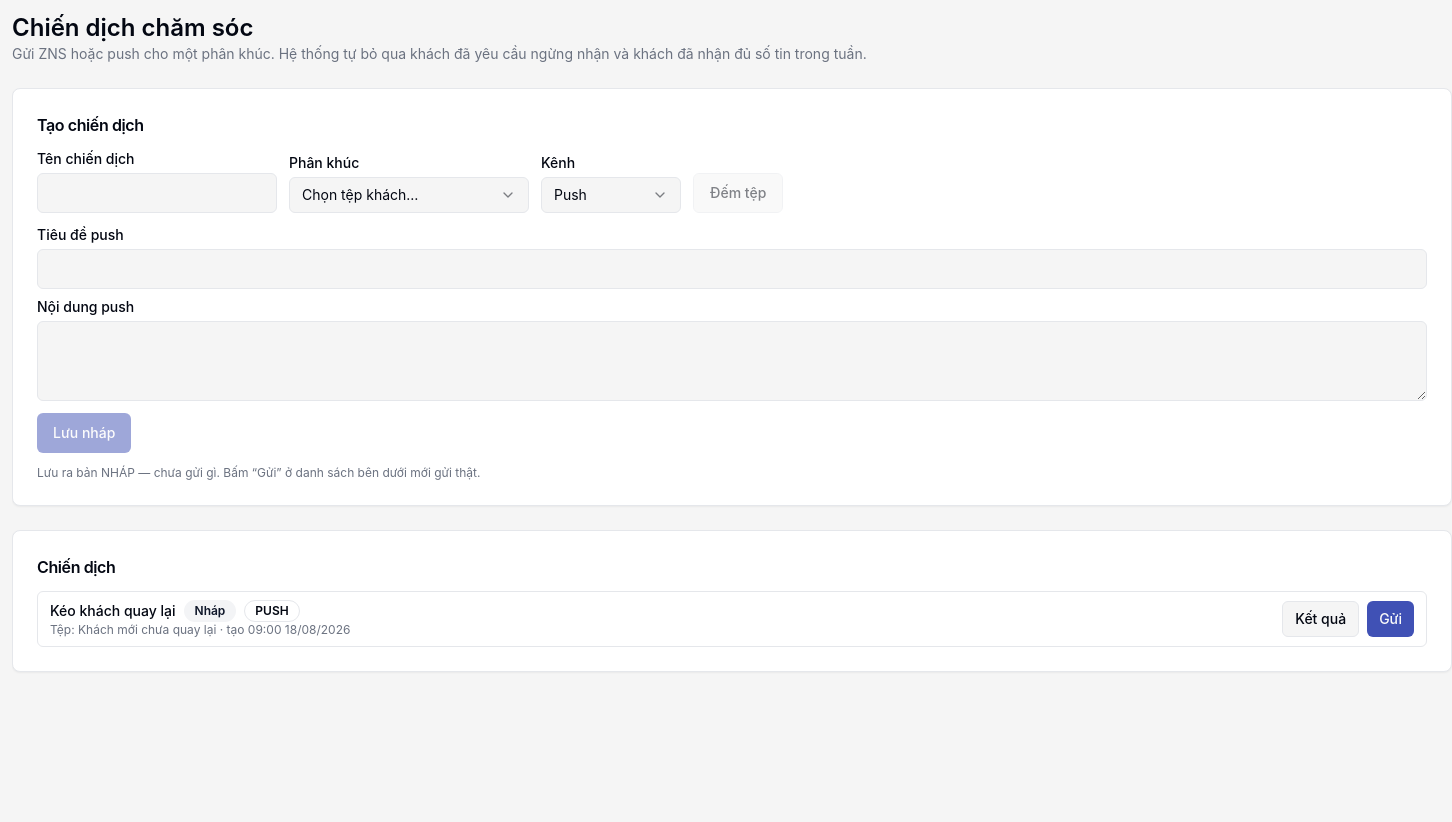
Test case: /crm-campaigns — tạo chiến dịch › đếm tệp hiện số khách và cảnh báo số thực nhận nhỏ hơn
Click the dropdown named "Chọn phân khúc" at [409, 195], box [289,177,529,213]
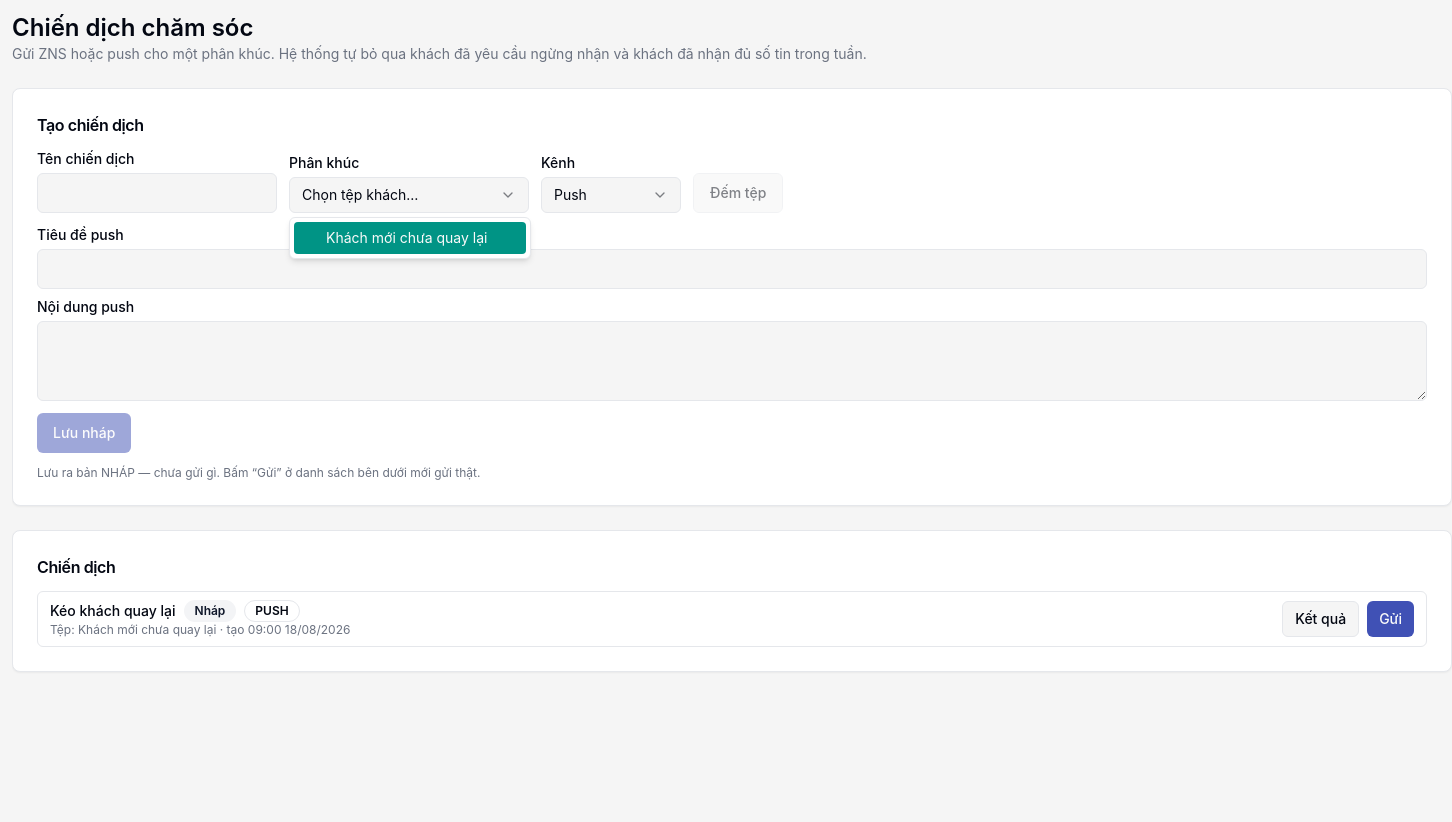
Click the option "Khách mới chưa quay lại" at [410, 238], box [294,222,526,254]
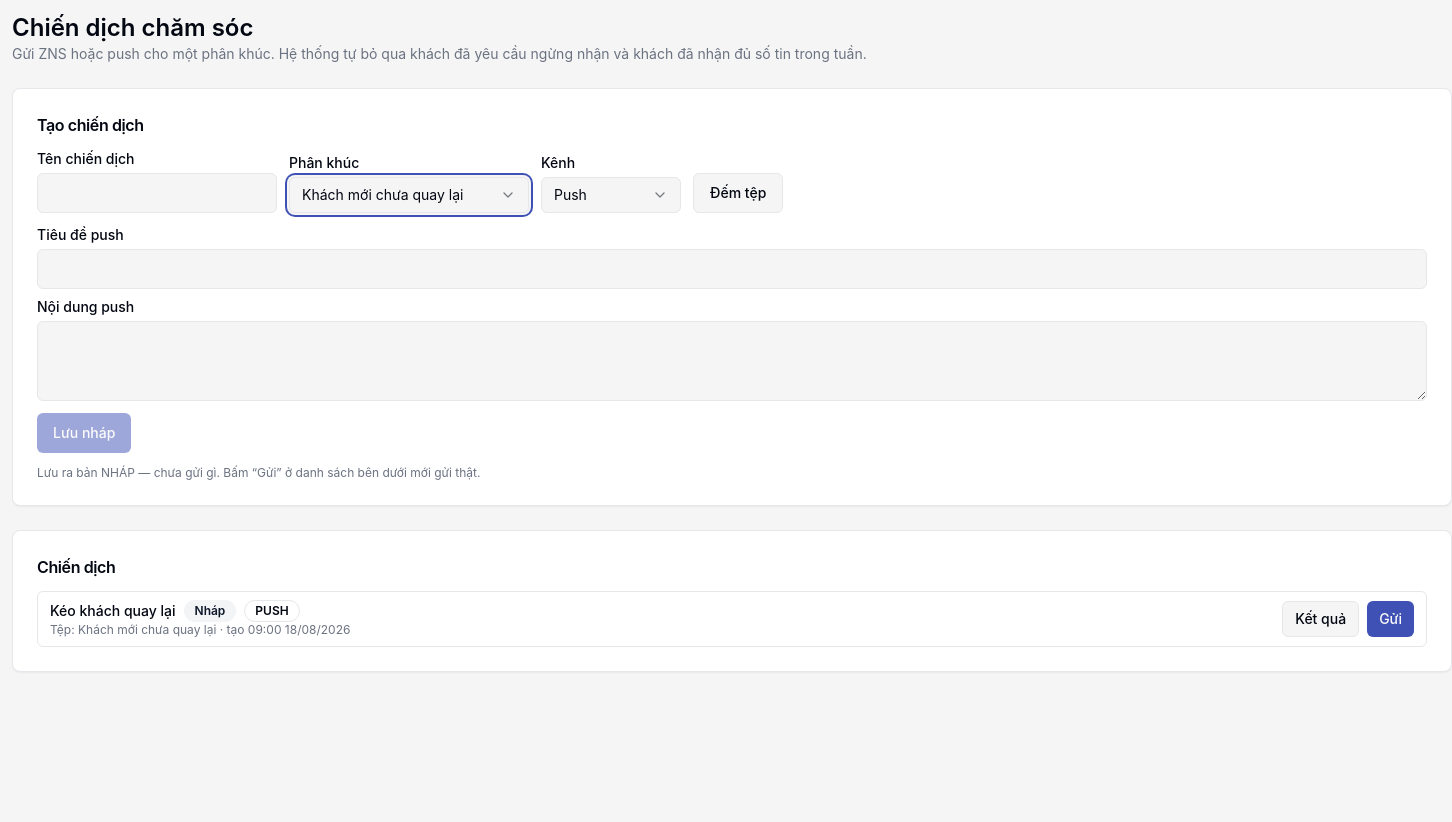
Click the button "Đếm tệp" at [738, 193], box [693,173,783,213]
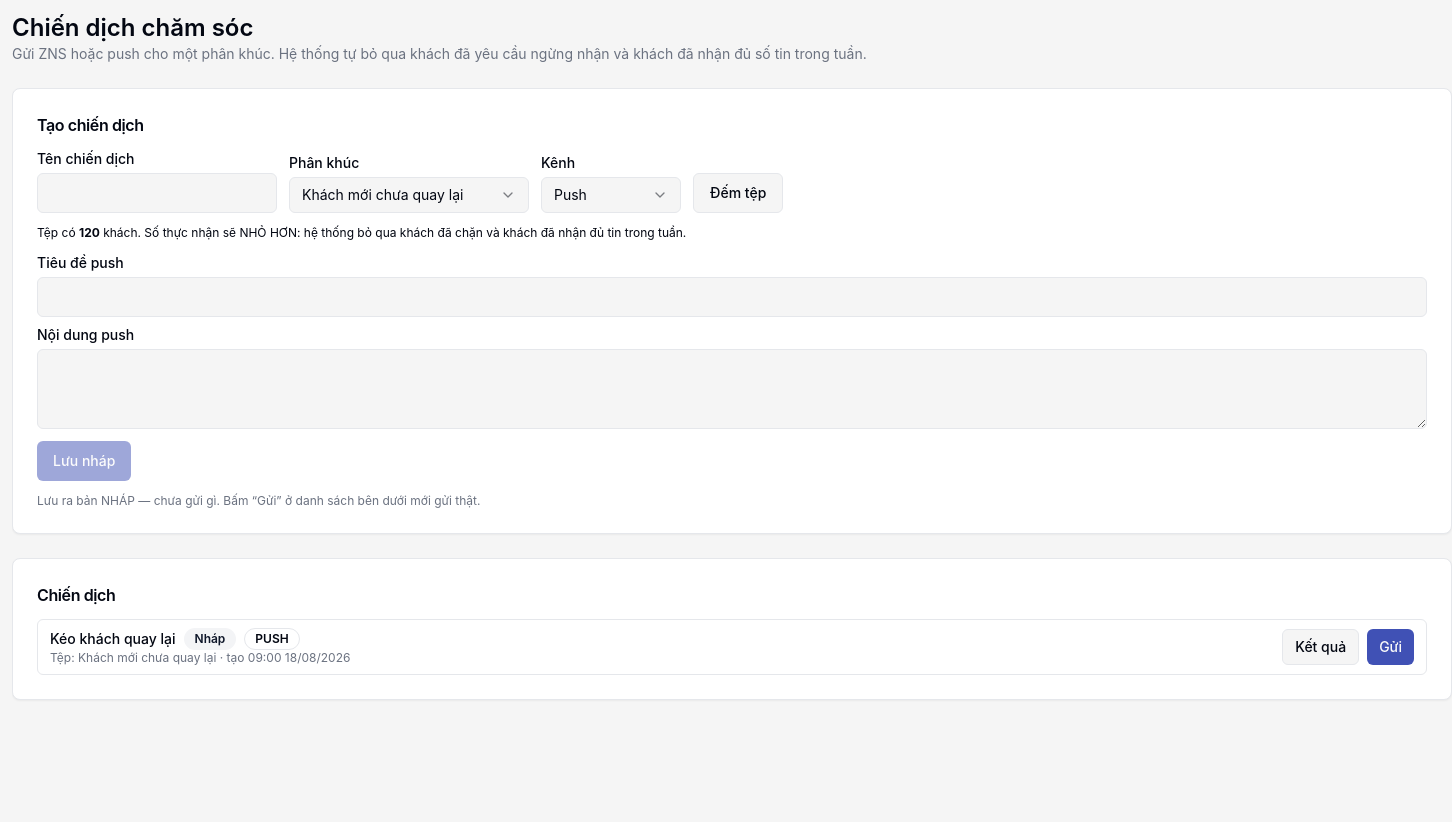
Check: the element with test id "camp-audience" shows "120", box [79,225,100,240]
Check: the element with test id "camp-audience" shows "NHỎ HƠN", box [100,225,686,240]
